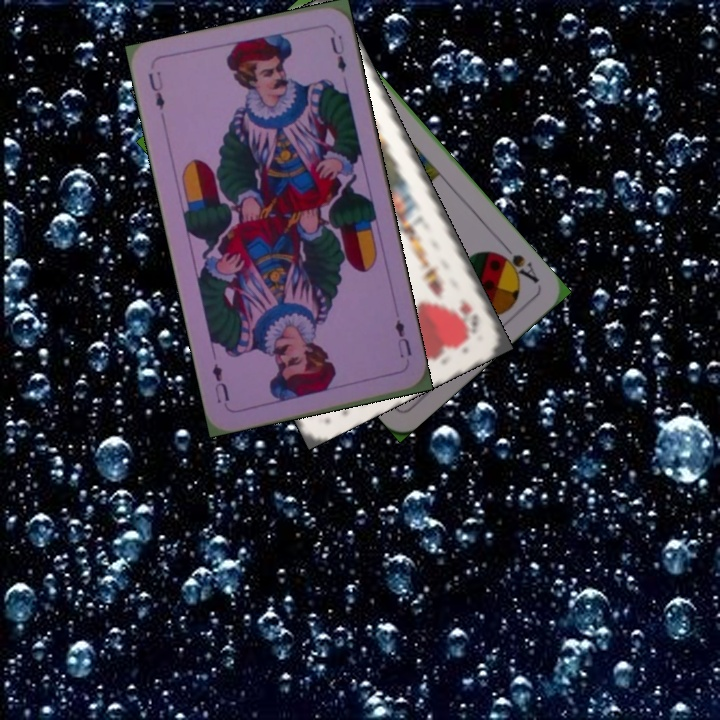EU: (391, 315, 415, 361), (144, 67, 168, 112)
HK: (455, 295, 482, 336)
SA: (490, 239, 542, 286)
